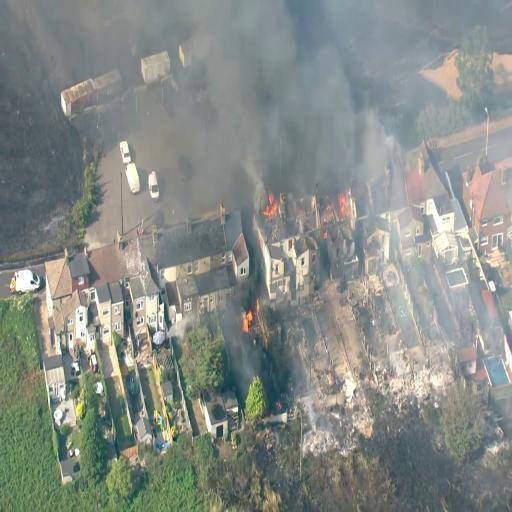fire: (241, 299, 257, 343)
